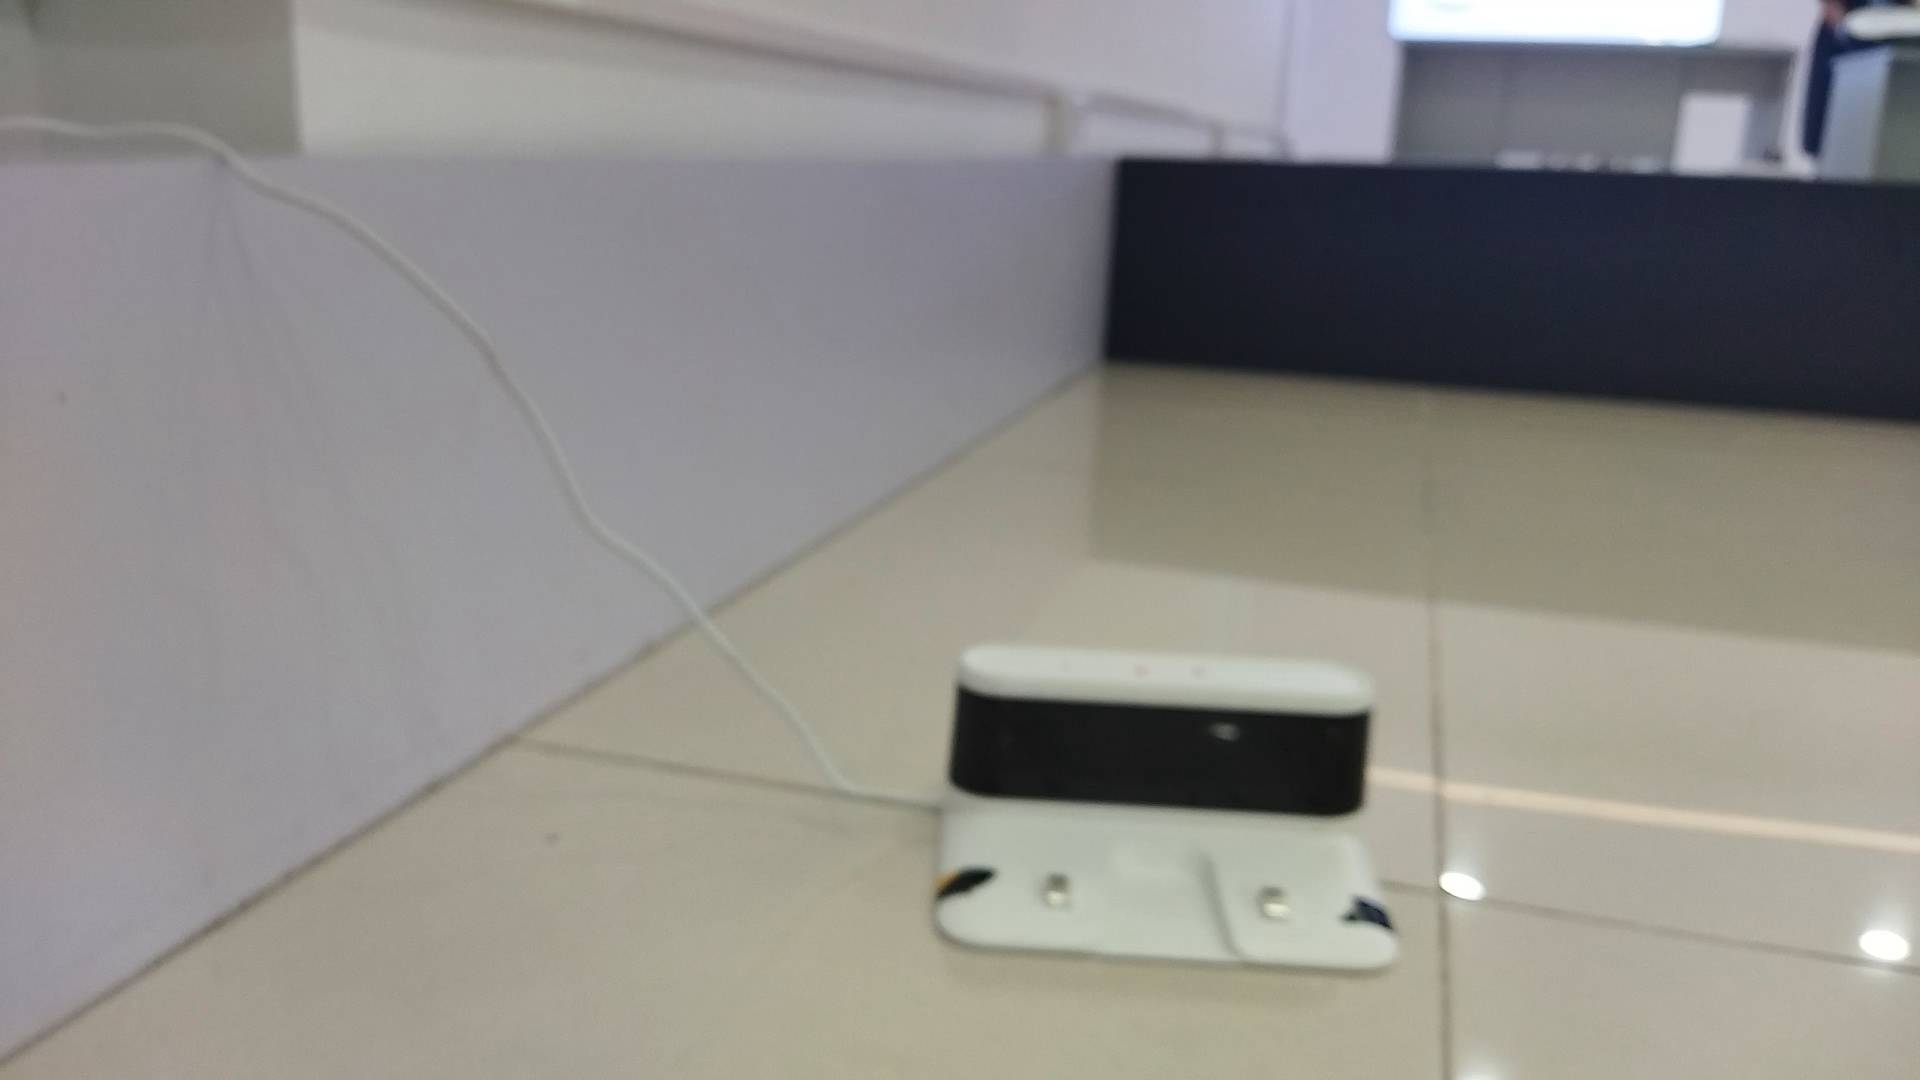recharge seat: (932, 641, 1398, 977)
